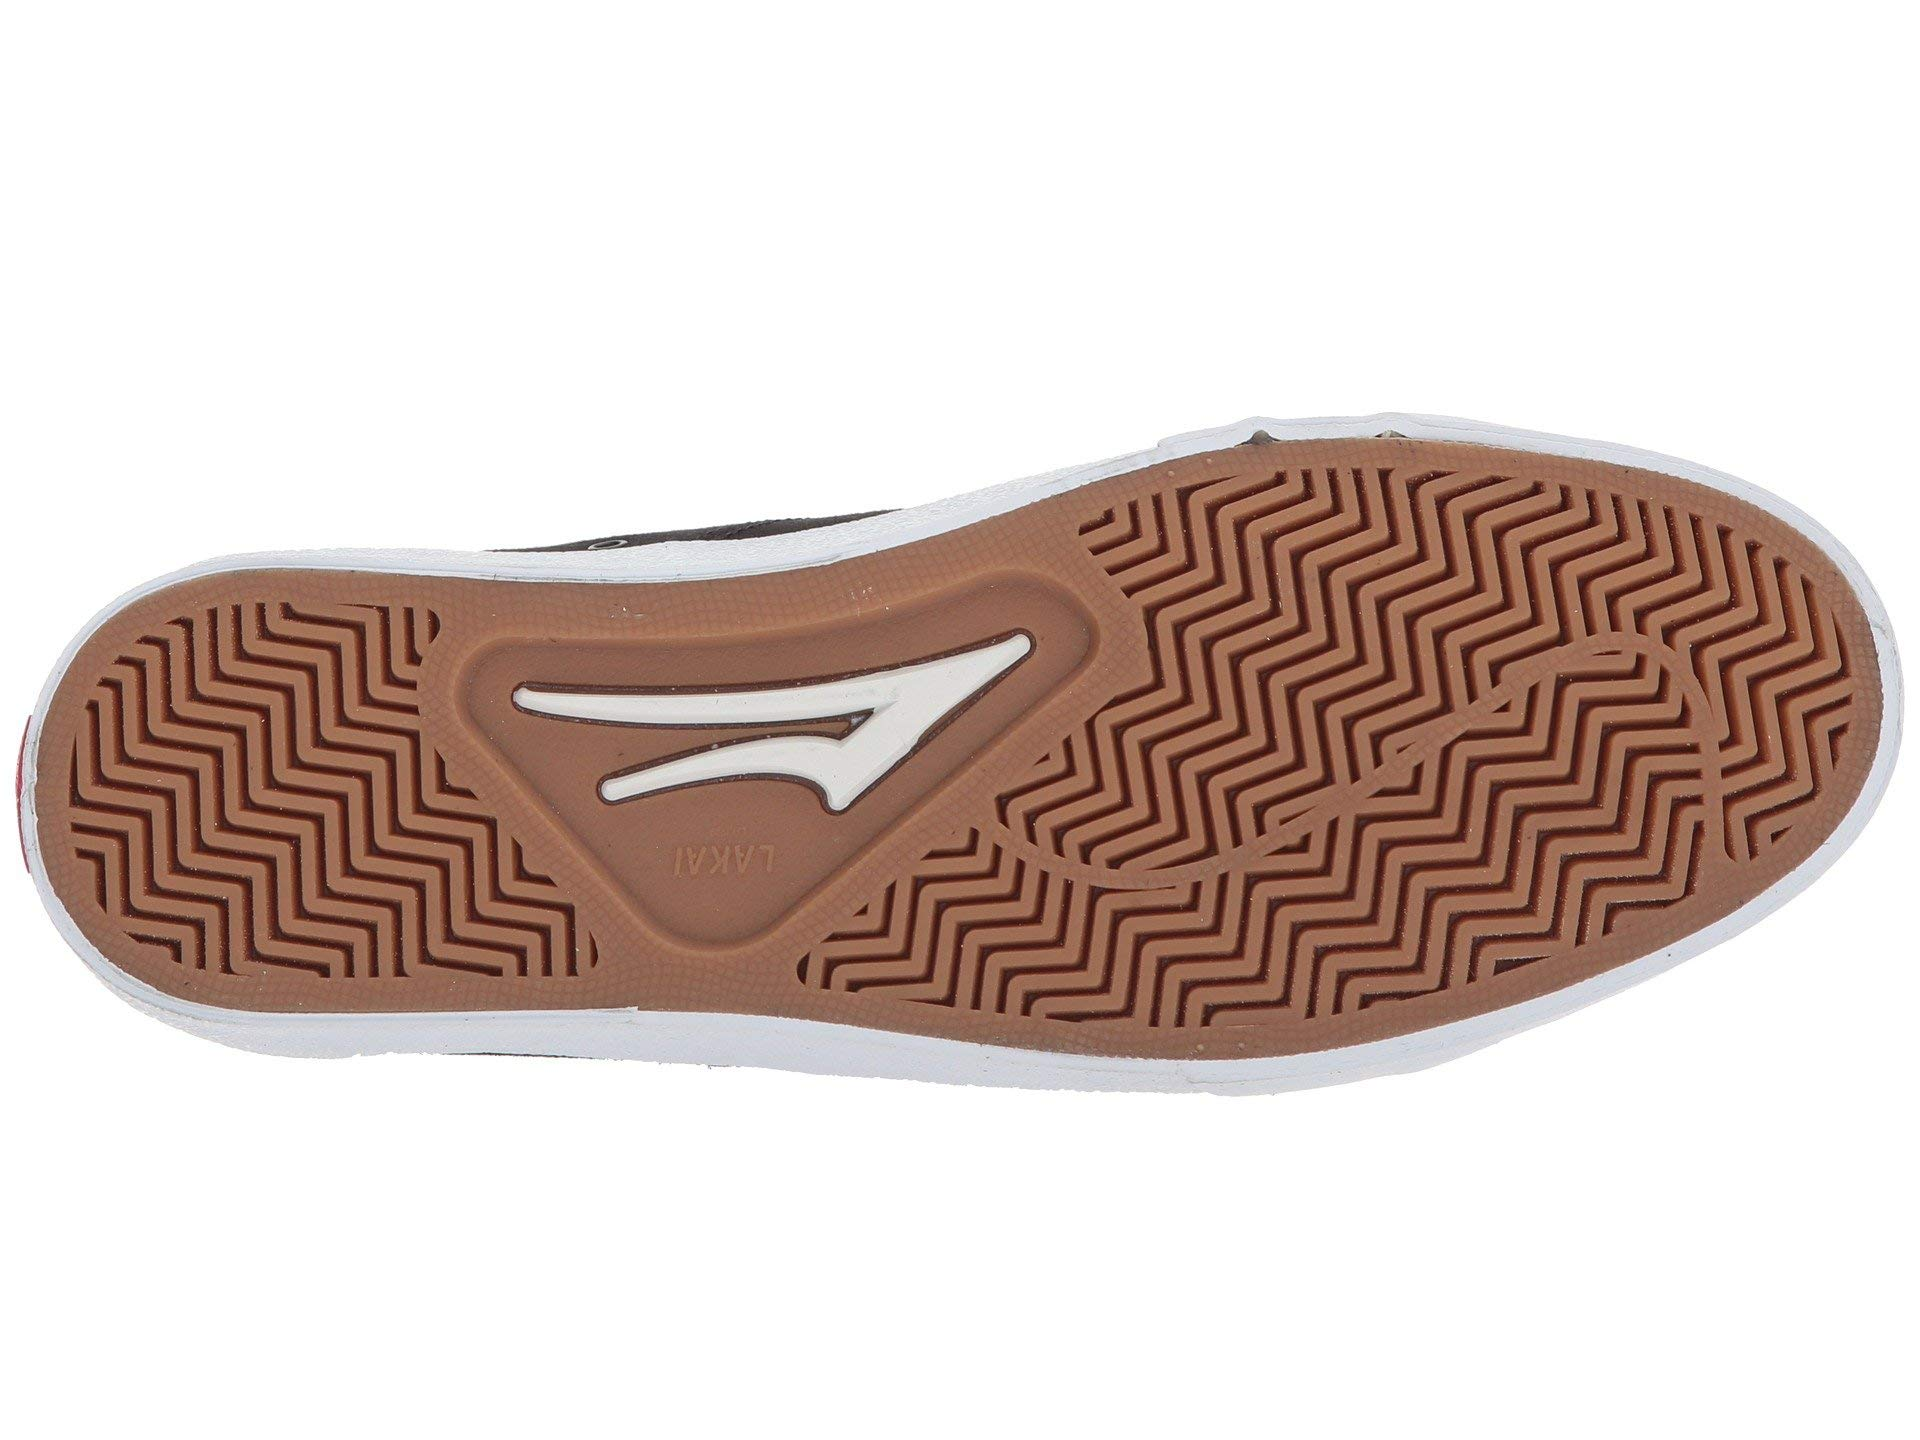chevron: (921, 703, 1672, 991), (127, 638, 463, 974), (1172, 496, 1603, 653), (1628, 535, 1847, 815)
text: (647, 818, 788, 895)
